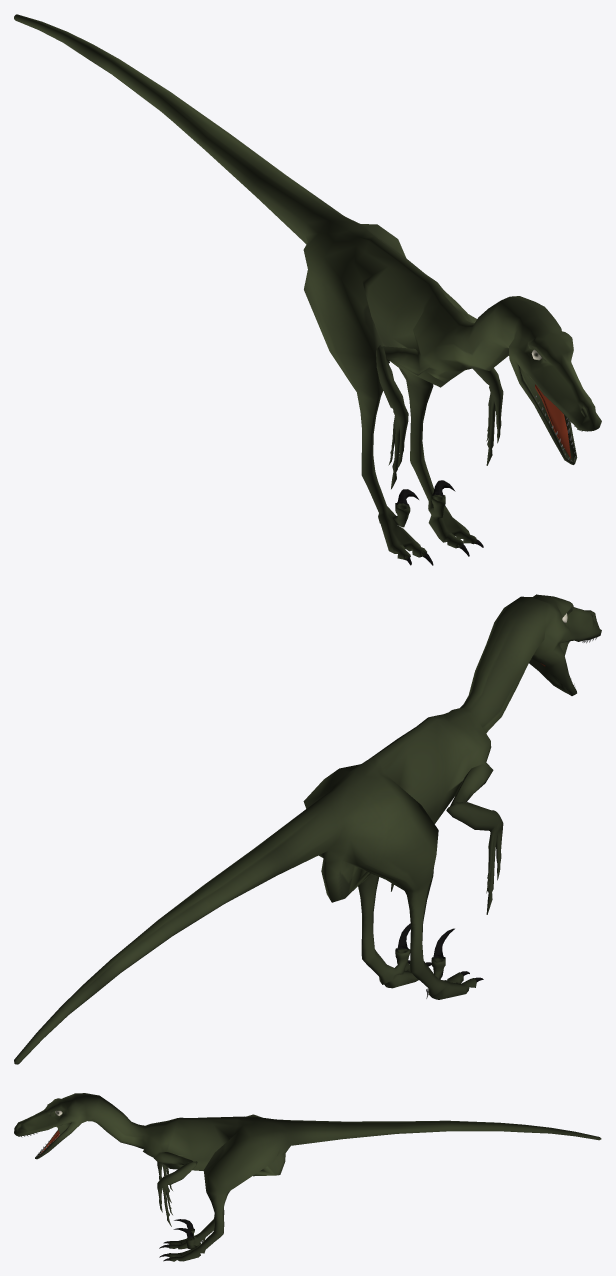
File: Dino.fbx
The picture shows the model from 3 angles, top to bottom: view 1: azimuth 30°, elevation 25°; view 2: azimuth 150°, elevation 25°; view 3: azimuth 270°, elevation 25°; orthographic projection. The views are drawn at different scales.
Parts seen in each view (by area): view 1: Dino; view 2: Dino; view 3: Dino.
Part boxes in pixels (x1,y1,x2,y2): Dino: (14, 14, 601, 565); Dino: (14, 594, 601, 1064); Dino: (14, 1093, 601, 1261).
Size of the model in its own units: 4.24 by 11.84 by 39.83.
